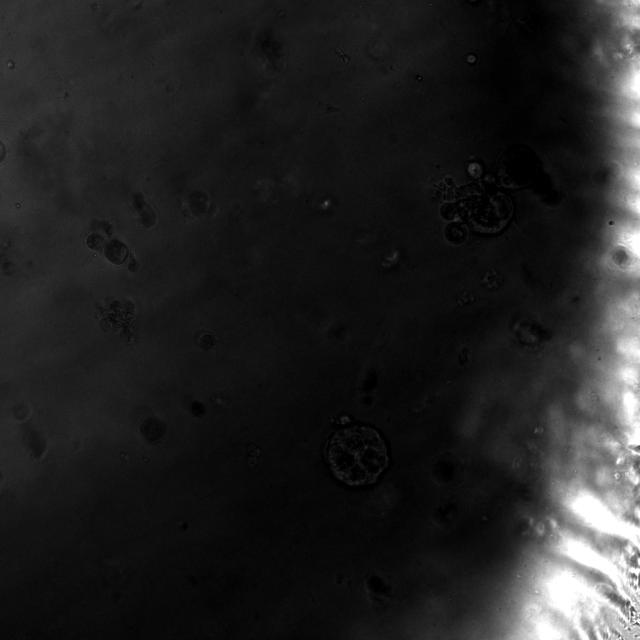organoid: (432, 142, 561, 245), (324, 420, 389, 487), (96, 299, 137, 346), (86, 232, 131, 265), (182, 189, 218, 218), (131, 192, 156, 228), (139, 416, 167, 444), (91, 219, 114, 236), (198, 333, 217, 351), (190, 400, 206, 418), (127, 256, 140, 272), (608, 220, 614, 225)
